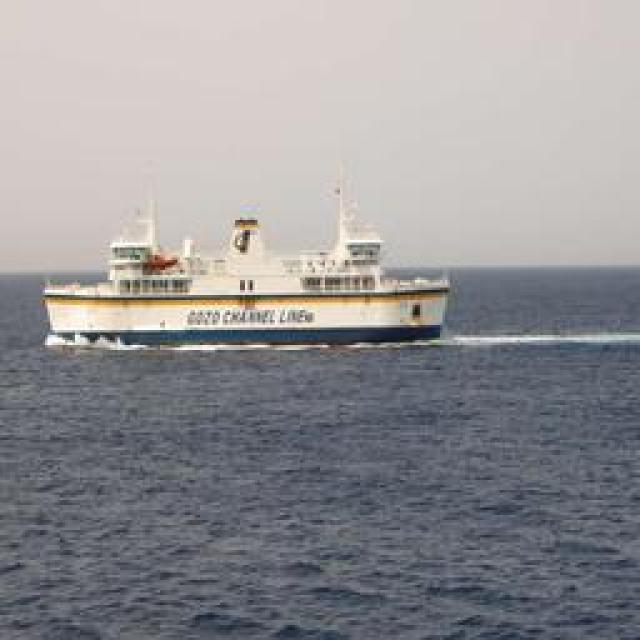ship2: (43, 165, 454, 350)
